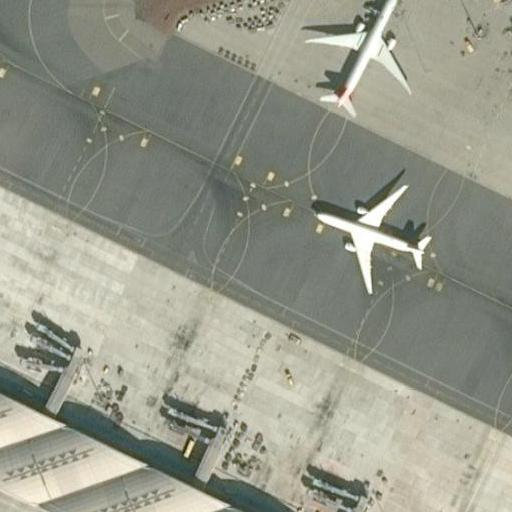Aircraft: (304, 169, 440, 296), (297, 0, 413, 116)
